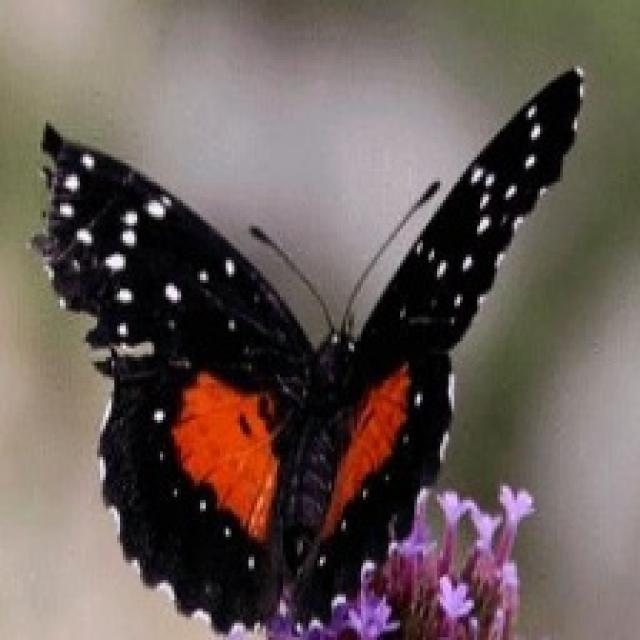butterfly: (26, 63, 586, 637)
